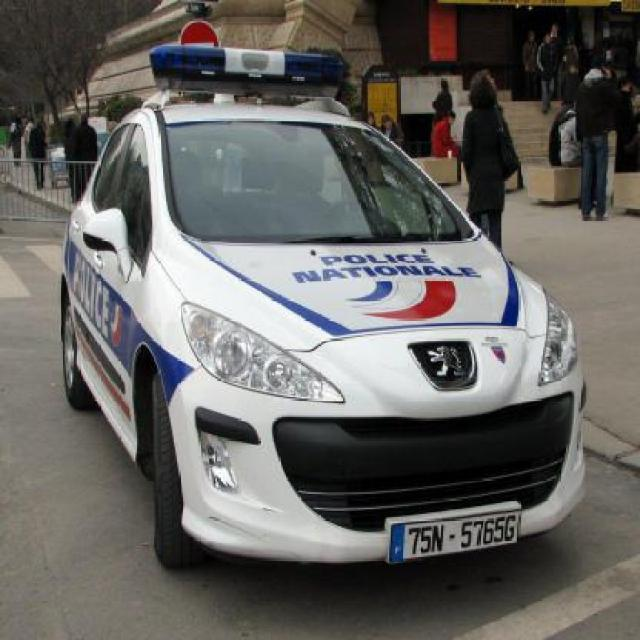License-Plates: (390, 509, 521, 564)
